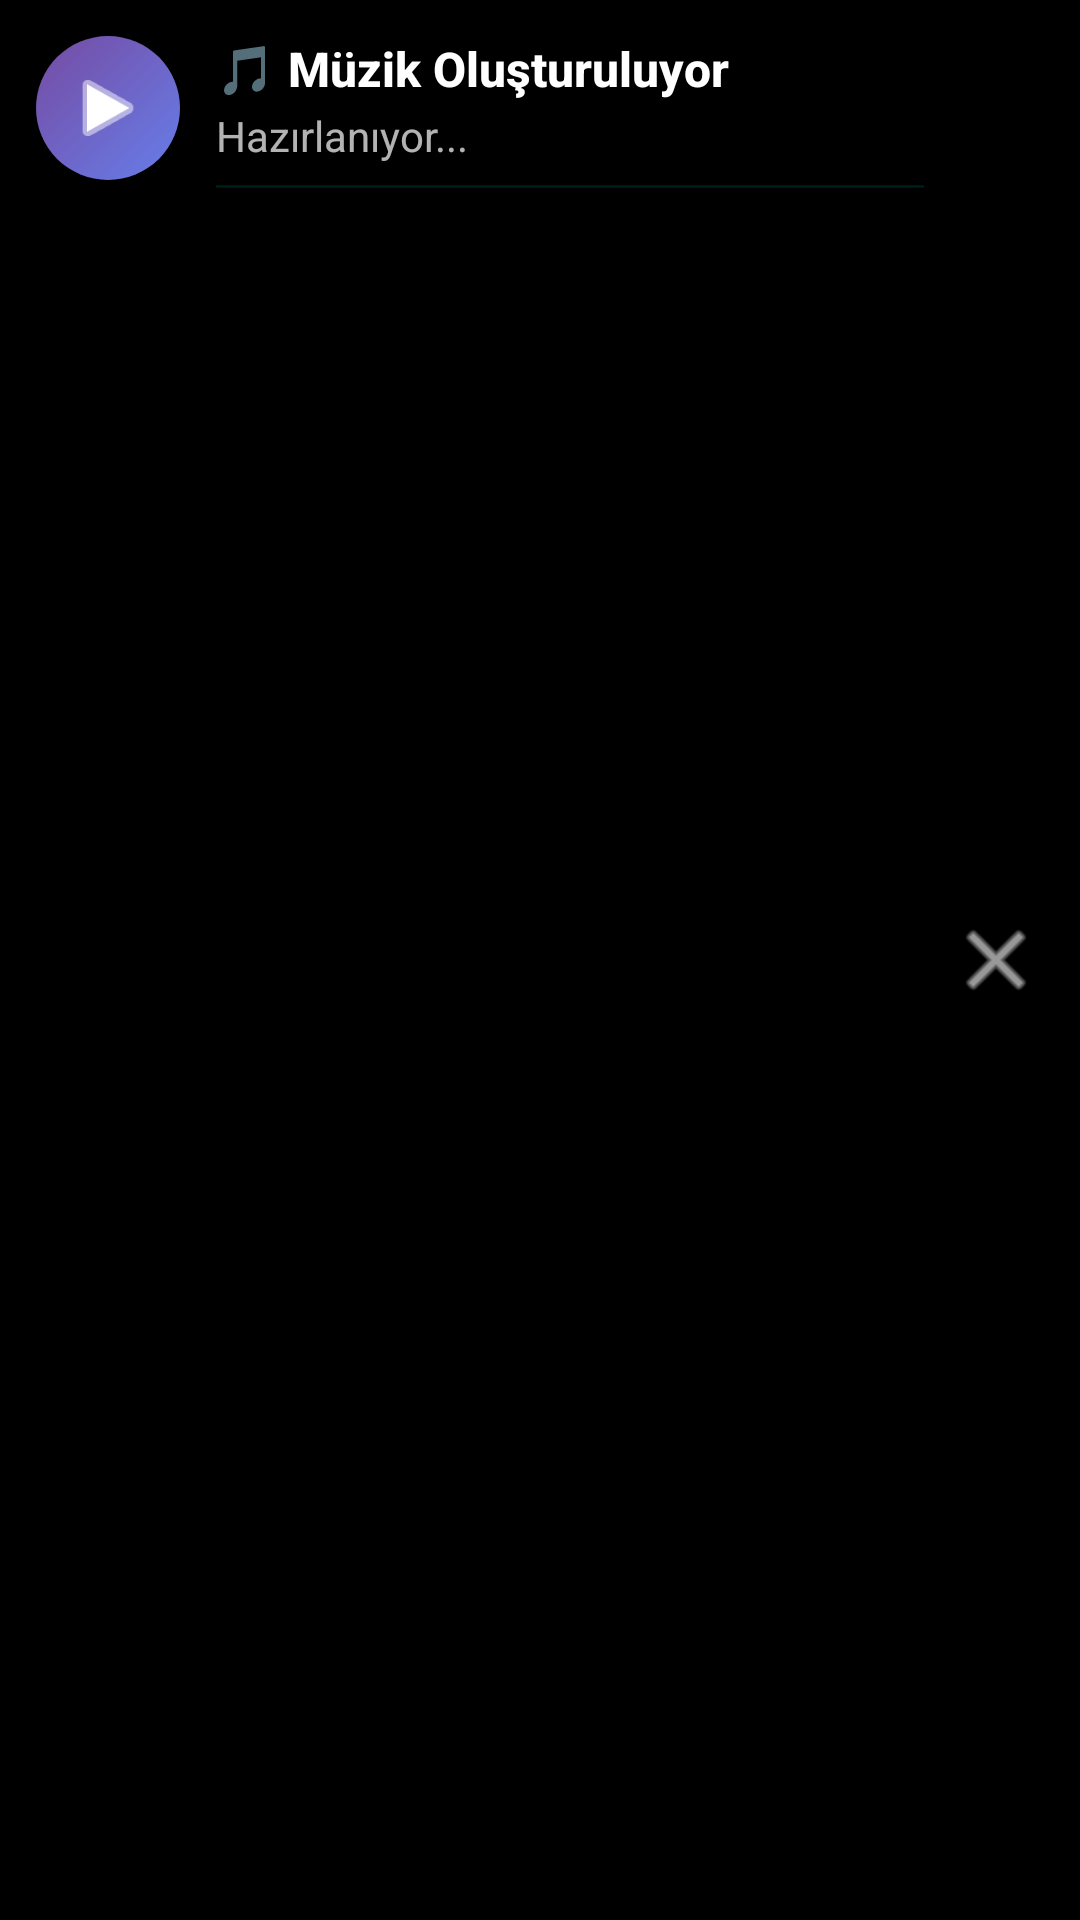

Where to tap for icons on this 1080x1920 app screen, as (x,y):
İptal: (996,960)
play: (108,108)
